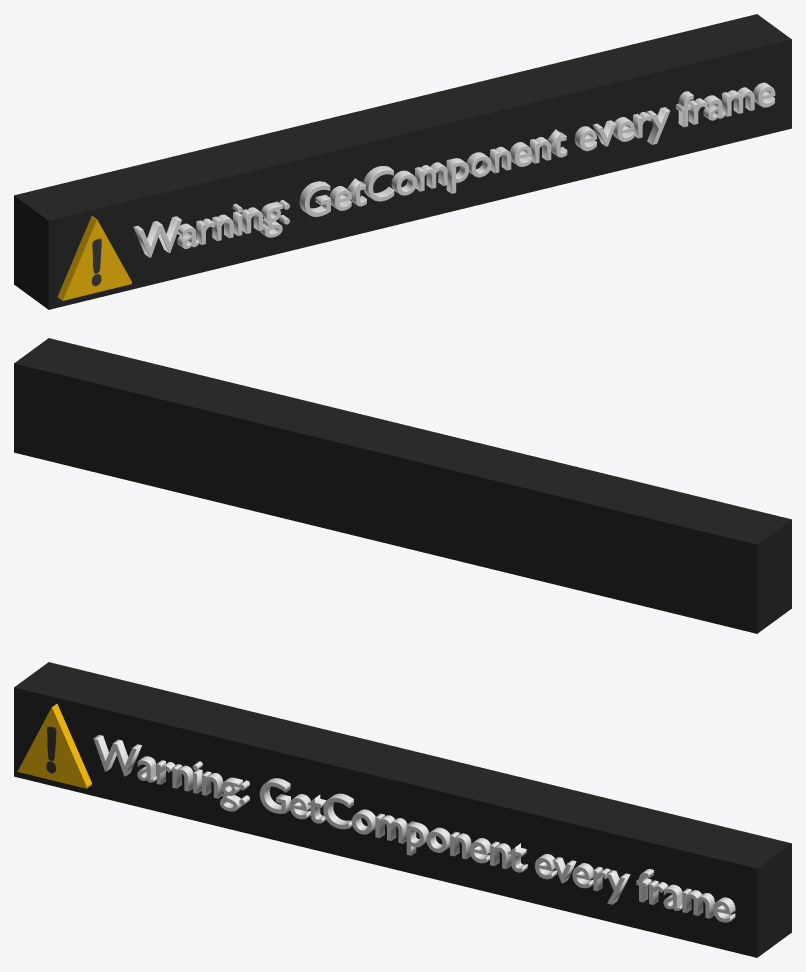
Rendered from Warning_ GetComponent every frame.fbx.
3 views of the same model, one above another, from view 1: azimuth 30°, elevation 25°; view 2: azimuth 150°, elevation 25°; view 3: azimuth 330°, elevation 25° (orthographic).
Visible parts, largest first — view 1: no1, Warning: GetComponent every frame; view 2: no1; view 3: no1, Warning: GetComponent every frame.
Boxes of the visible parts, box(x1,y1,x2,y2) form: no1: box(14, 14, 791, 309); Warning: GetComponent every frame: box(133, 82, 775, 257); no1: box(14, 338, 791, 633); no1: box(14, 662, 791, 957); Warning: GetComponent every frame: box(93, 734, 735, 922).
Size of the model in its own units: 3448 by 395 by 322.
